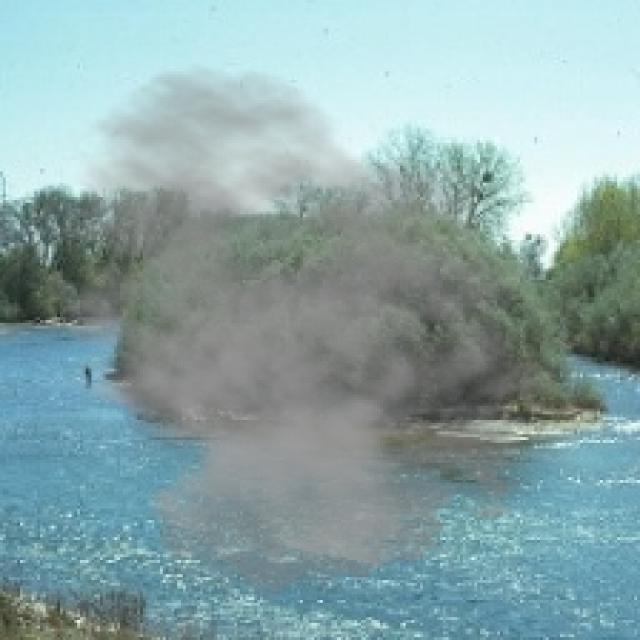smoke: (9, 63, 577, 606)
